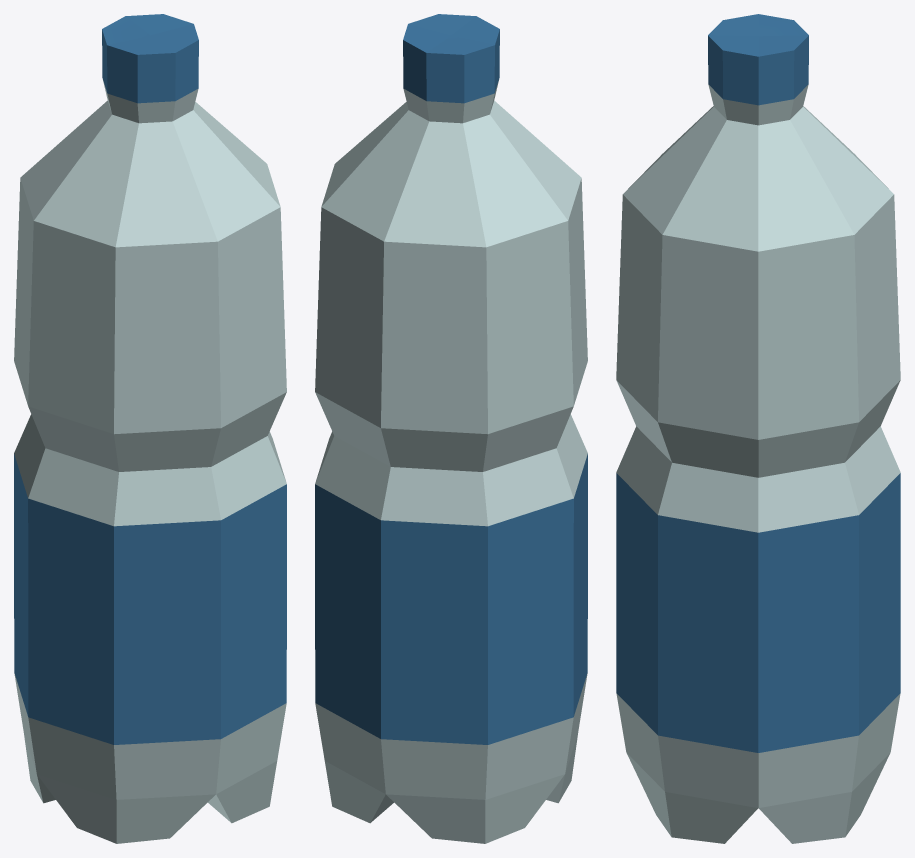
Rendered from food_water-bottle.fbx.
3 views of the same model, side by side, from view 1: azimuth 30°, elevation 25°; view 2: azimuth 150°, elevation 25°; view 3: azimuth 270°, elevation 25° (orthographic).
Parts seen in each view (by area): view 1: food_water_bottle; view 2: food_water_bottle; view 3: food_water_bottle.
Part boxes in pixels (bbox=[...]): food_water_bottle: bbox=[14, 14, 286, 843]; food_water_bottle: bbox=[315, 14, 587, 843]; food_water_bottle: bbox=[616, 14, 900, 843].
Size of the model in its own units: 67.46 by 200 by 67.46.
